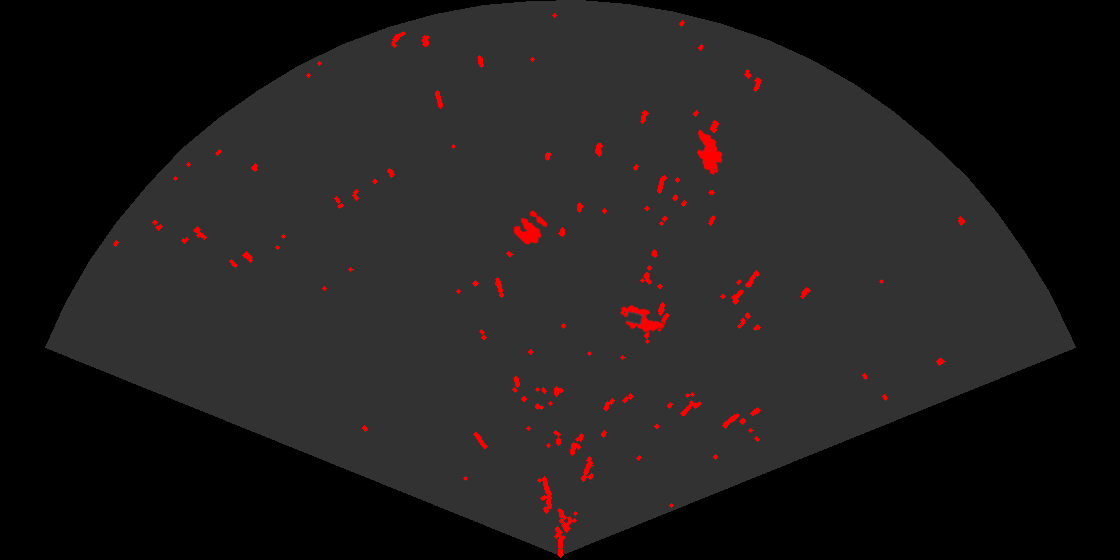AUV: (618, 304, 666, 334), (695, 128, 724, 177)
ball: (512, 209, 549, 246)
